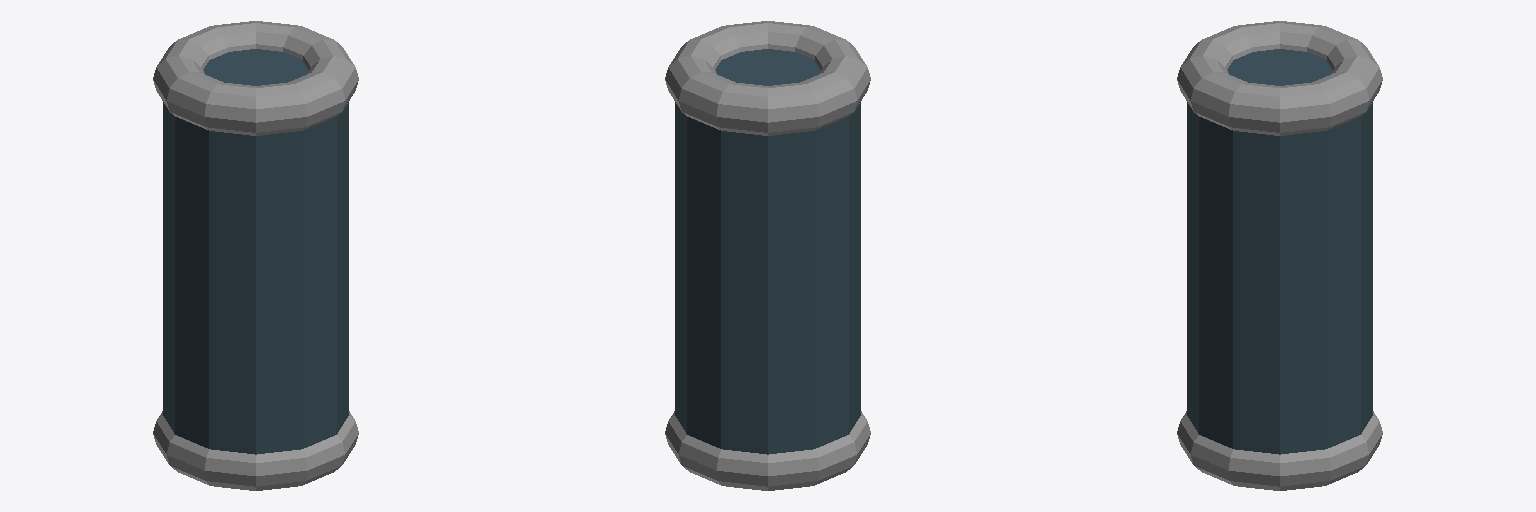
3 renders of one model, left to right at view 1: azimuth 30°, elevation 25°; view 2: azimuth 150°, elevation 25°; view 3: azimuth 270°, elevation 25°, orthographic.
Parts seen in each view (by area): view 1: group[number redacted], group[number redacted], group[number redacted]; view 2: group[number redacted], group[number redacted], group[number redacted]; view 3: group[number redacted], group[number redacted], group[number redacted].
Boxes of the visible parts, x1,y1,x2,y2 form: group[number redacted]: [163, 49, 348, 454]; group[number redacted]: [153, 21, 358, 135]; group[number redacted]: [153, 411, 358, 490]; group[number redacted]: [675, 49, 860, 454]; group[number redacted]: [665, 21, 870, 135]; group[number redacted]: [665, 411, 870, 490]; group[number redacted]: [1187, 49, 1372, 454]; group[number redacted]: [1177, 21, 1382, 135]; group[number redacted]: [1177, 411, 1382, 490].
Bounding box in the file's own units: 0.41 × 0.8781 × 0.41.